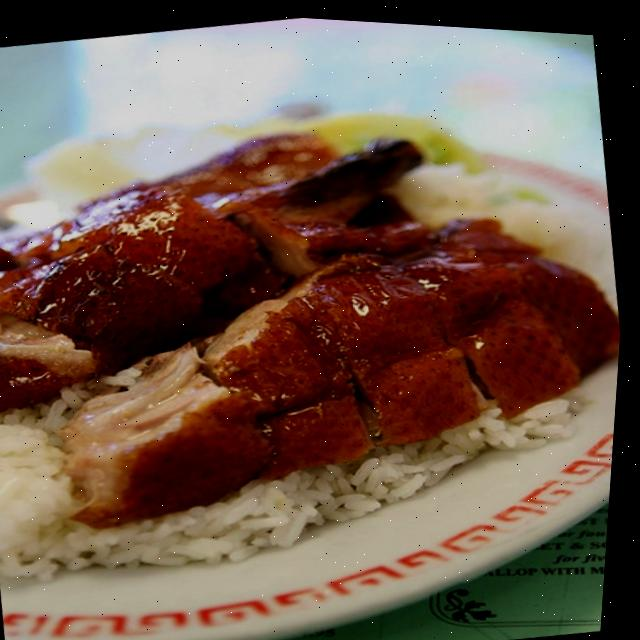烧串烤肉: (0, 29, 638, 598)
